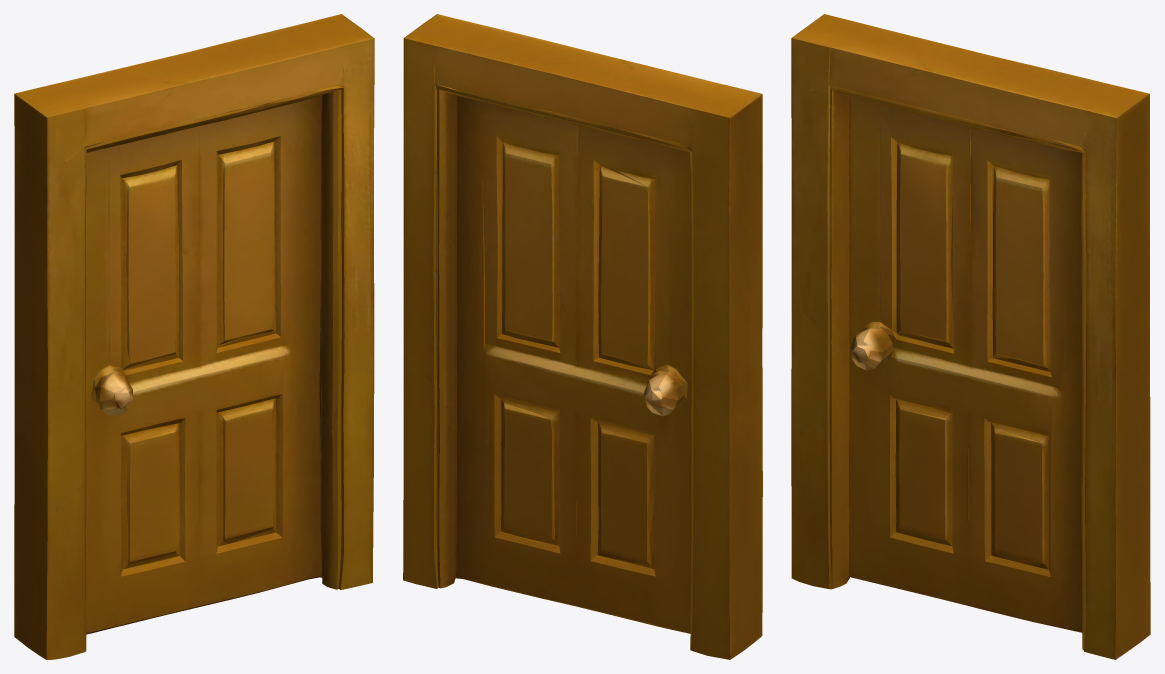
File: door.glb
3 views of the same model, side by side, from view 1: azimuth 30°, elevation 25°; view 2: azimuth 150°, elevation 25°; view 3: azimuth 330°, elevation 25° (orthographic).
Parts seen in each view (by area): view 1: model; view 2: model; view 3: model.
Part boxes in pixels (bbox=[...]): model: bbox=[14, 14, 374, 659]; model: bbox=[403, 14, 762, 659]; model: bbox=[791, 14, 1150, 659].
Bounding box in the file's own units: 1.19 × 1.89 × 0.268.
Materials: 1 (1 with a texture image).
